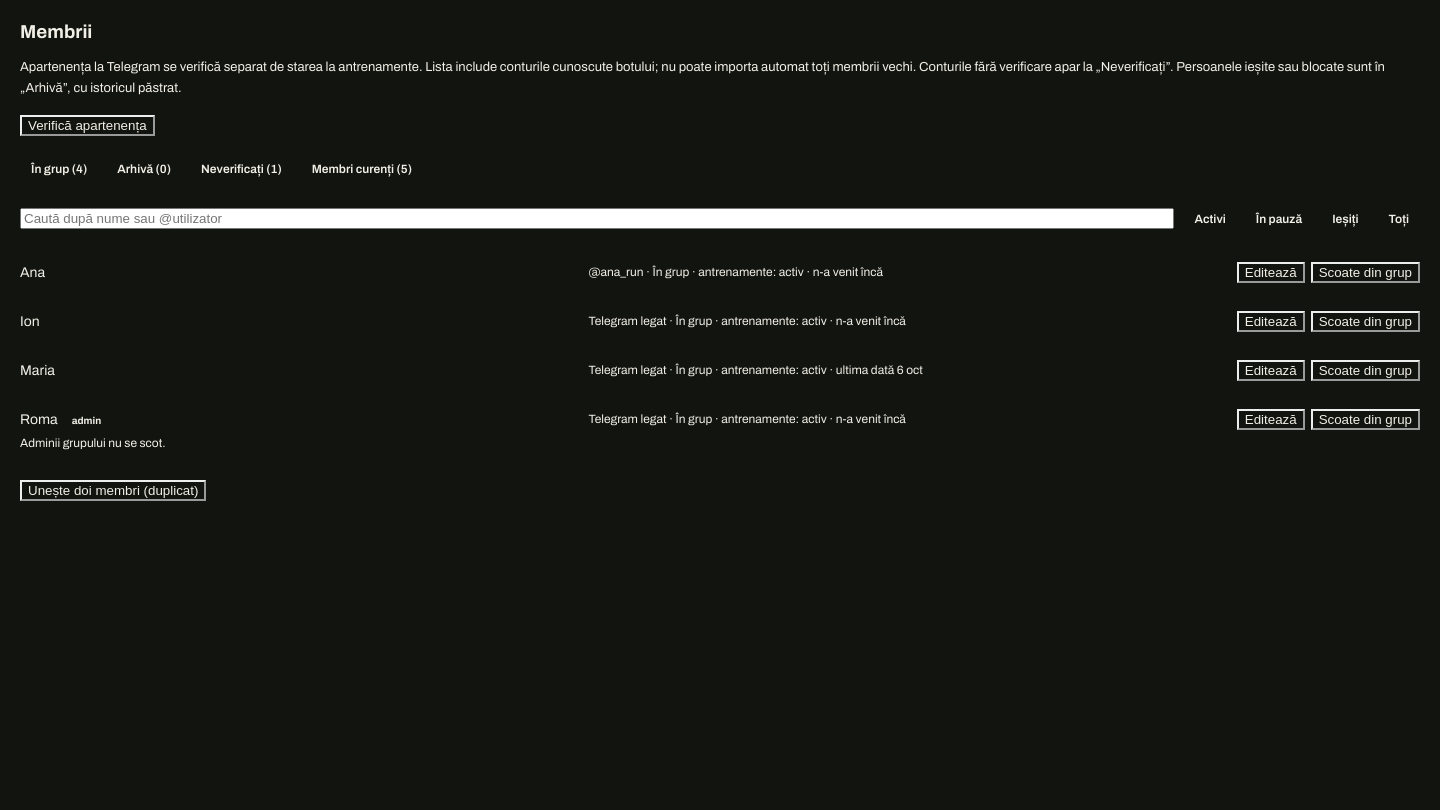
Test: Membrii grupului — editarea, conturile, unirea › un id de Telegram cu litere blochează salvarea
The width and height of the screenshot is (1440, 810).
Expected: the text "Ion" is shown, [20,314,40,329]
Click the button "Editează" in the row of "Ion" at (1271, 321), box [1237,311,1305,332]
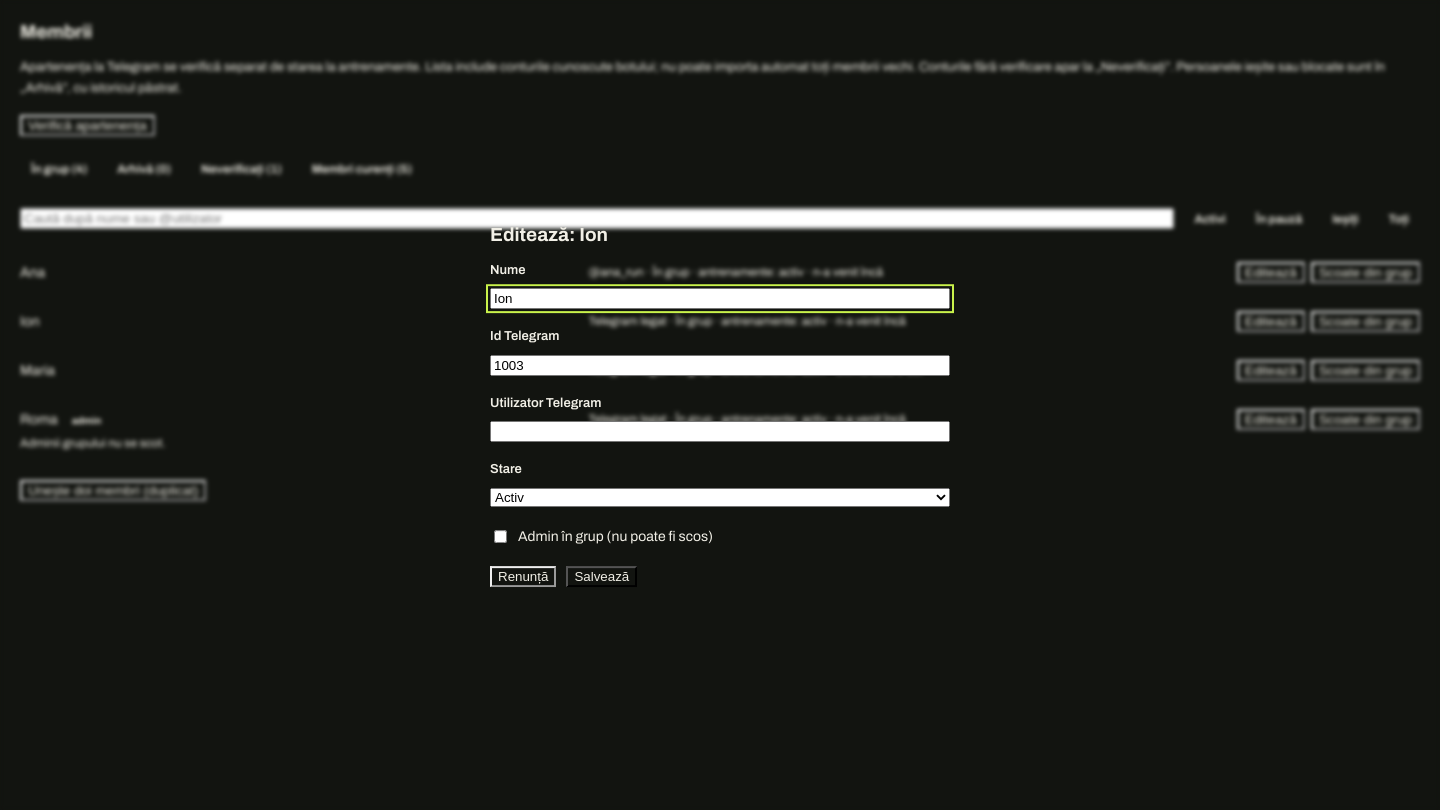
Replace the text in the field labelled "Id Telegram" with "12a" at (720, 365), box [490,355,950,376]
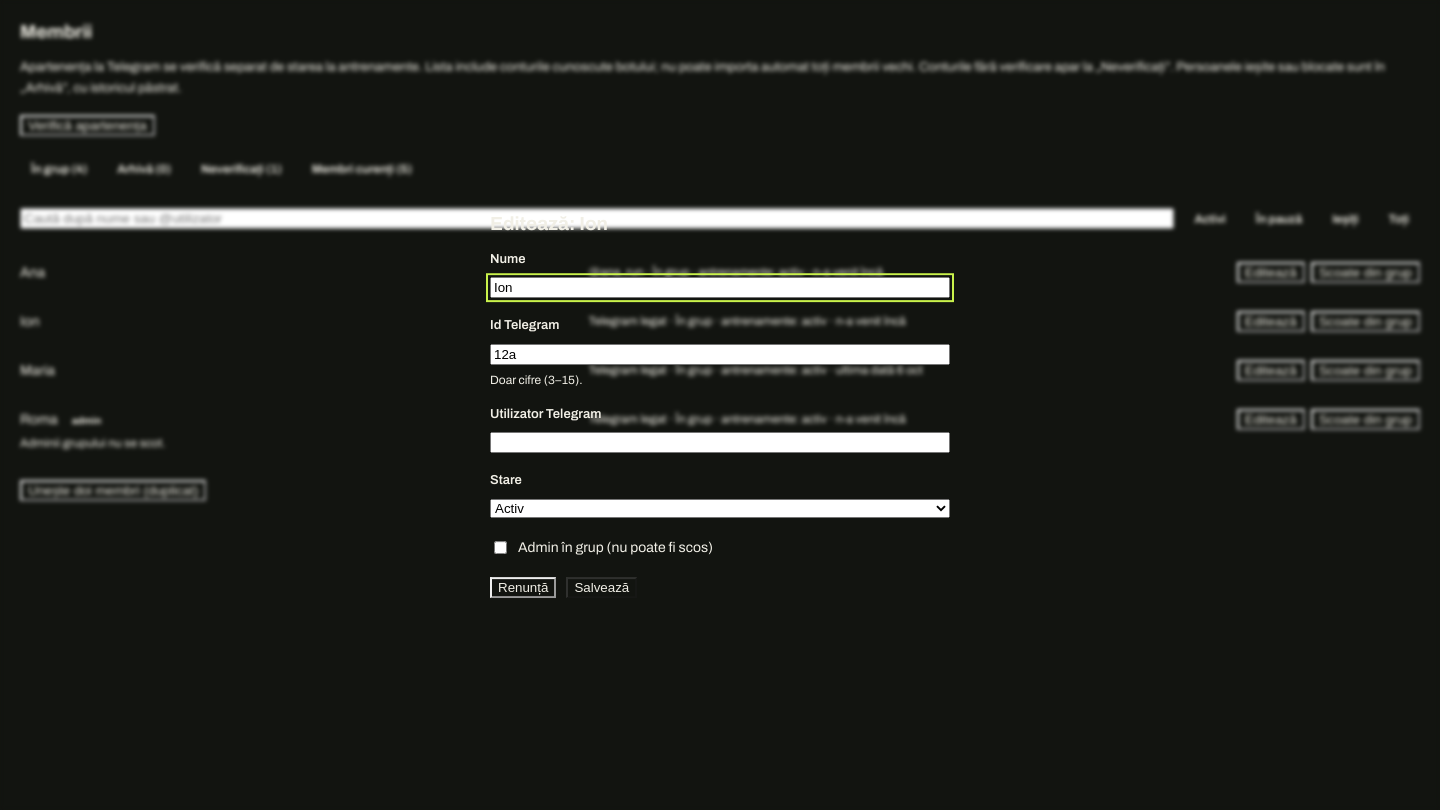
Result: the button "Salvează" is disabled at [566,577,637,598]
